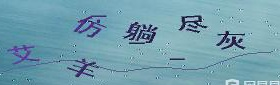chinese: (215, 29, 251, 56), (126, 21, 157, 49), (67, 56, 101, 81), (11, 43, 42, 69), (75, 14, 106, 39), (177, 11, 208, 35)
